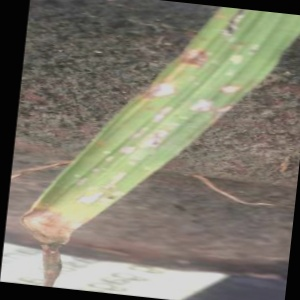Brown_Spot: (179, 38, 215, 74), (133, 74, 176, 102), (178, 92, 219, 121), (221, 75, 250, 102)
